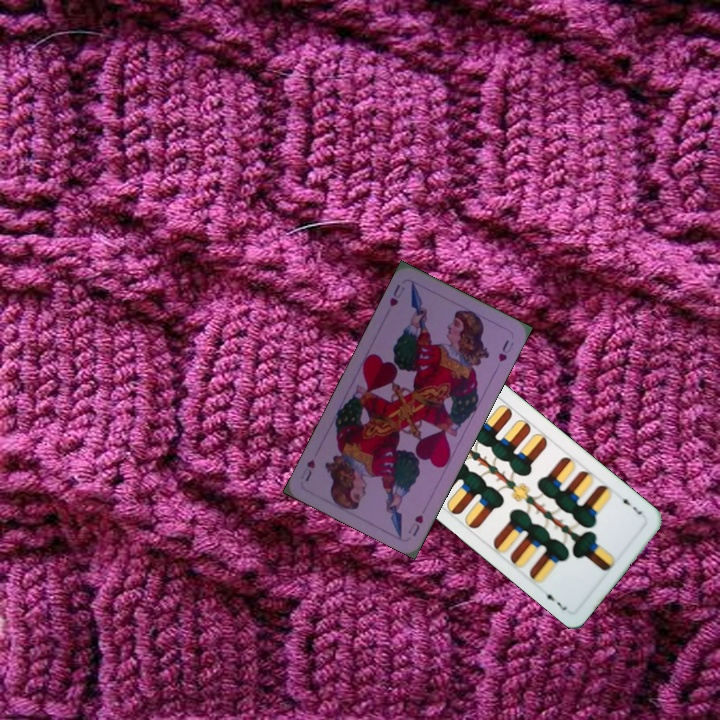E7: (616, 491, 645, 518)
HU: (385, 280, 407, 309), (404, 511, 426, 539)
